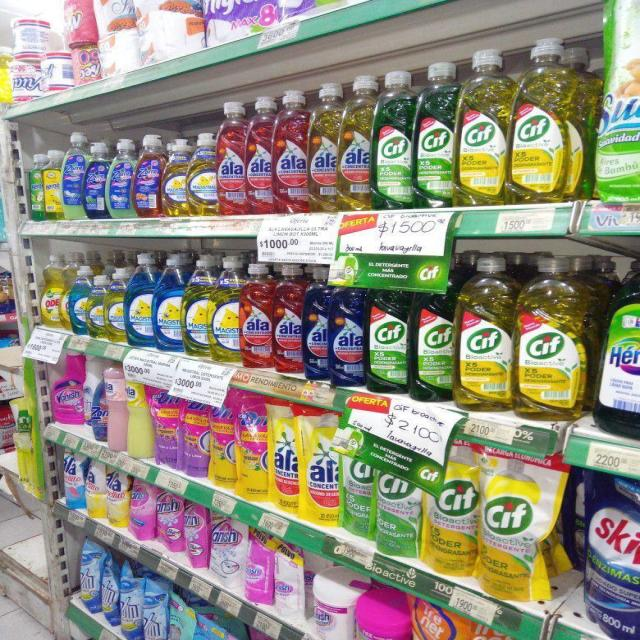ala_conc_amarillo: (339, 75, 372, 212), (309, 82, 338, 213)
ala_conc_azul: (330, 278, 366, 388), (303, 266, 330, 381)
ala_conc_rojo: (274, 89, 308, 214), (240, 260, 272, 370), (273, 264, 303, 376), (218, 99, 246, 217), (246, 96, 273, 216)
ala_crem_amarillo: (126, 364, 150, 459)
ala_crem_rosado: (107, 360, 126, 452)
ala_sachet_amarillo: (301, 410, 340, 525), (271, 402, 299, 514)
cif_conc_bot_amarilla: (516, 254, 590, 421), (511, 34, 583, 204), (457, 255, 514, 411), (458, 46, 509, 206)
cif_conc_botella_verde: (415, 62, 456, 208), (374, 70, 413, 210), (412, 276, 455, 402), (367, 285, 410, 394)
cif_conc_sachet_amarillo: (480, 458, 549, 600)
cif_conc_sachet_verde: (425, 446, 478, 576), (376, 472, 421, 557), (342, 423, 373, 538)
drive: (237, 392, 268, 502)
magistral_con_amarillo: (211, 256, 239, 363), (183, 255, 210, 358), (188, 133, 217, 217), (162, 136, 187, 217), (106, 268, 126, 343), (88, 271, 106, 338)
magistral_con_azul: (154, 252, 183, 350), (126, 252, 154, 347), (70, 264, 88, 336)
zorro: (134, 134, 161, 218), (107, 138, 134, 218)
